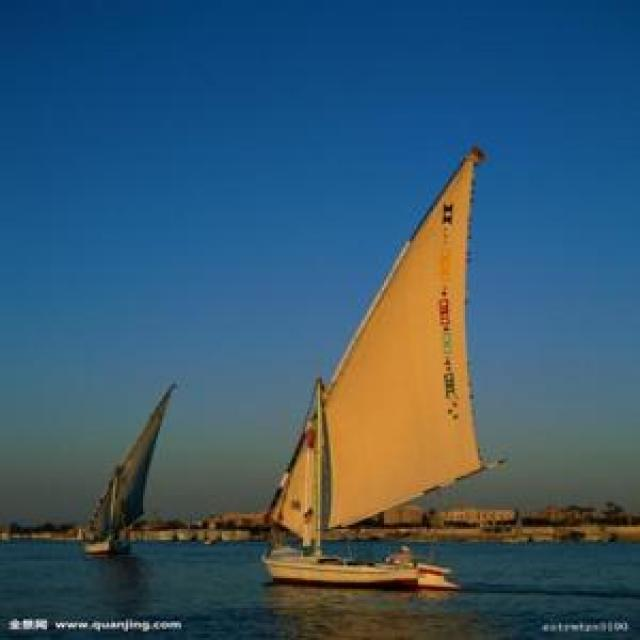sailboat: (258, 142, 504, 590), (73, 378, 178, 555)
